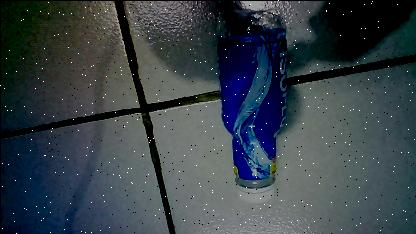Plastic Bottle: (201, 7, 299, 202)
